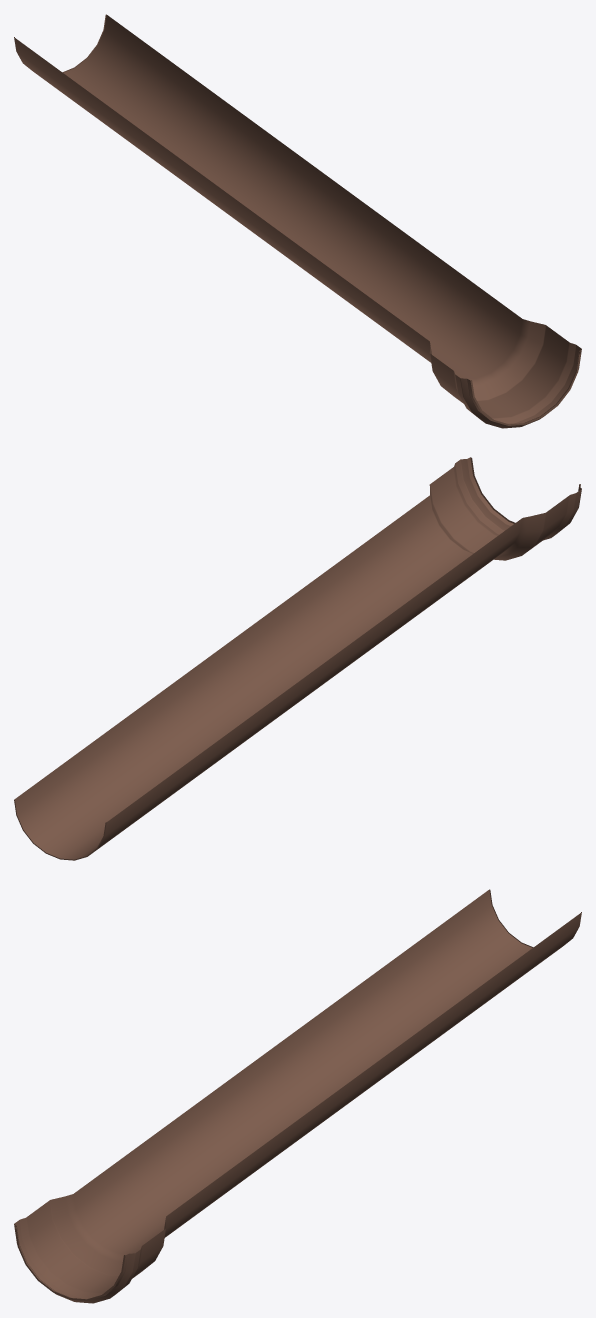
Rendered from Pipes_End_lenght.fbx.
The picture shows the model from 3 angles, top to bottom: view 1: azimuth 30°, elevation 25°; view 2: azimuth 150°, elevation 25°; view 3: azimuth 330°, elevation 25°; orthographic projection.
Visible parts, largest first — view 1: pCylinder9; view 2: pCylinder9; view 3: pCylinder9.
Part boxes in pixels (left/top/right/bottom): pCylinder9: left=14, top=14, right=581, bottom=428; pCylinder9: left=14, top=457, right=581, bottom=860; pCylinder9: left=14, top=889, right=581, bottom=1303.
Bounding box in the file's own units: 0.2171 × 0.1093 × 1.44.
